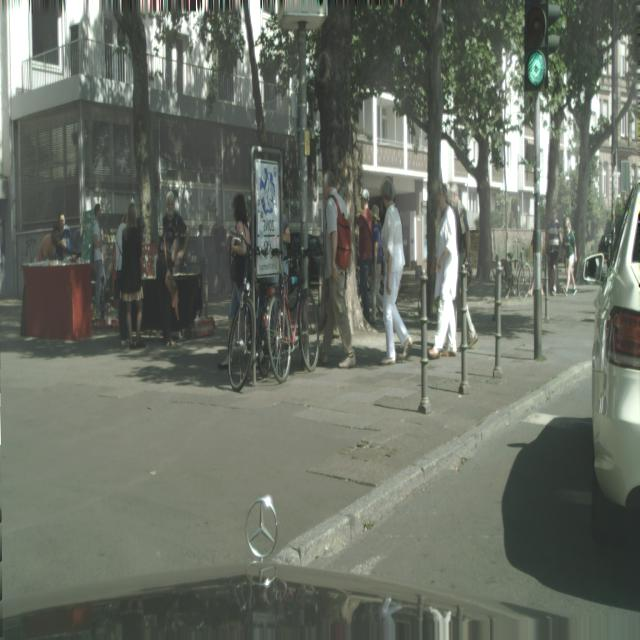car: (266, 246, 319, 383), (228, 257, 257, 392)
person: (319, 169, 357, 369), (379, 176, 413, 364), (428, 183, 460, 360), (449, 182, 479, 349), (226, 194, 252, 367), (162, 191, 190, 348), (117, 204, 145, 350), (356, 188, 374, 328), (92, 202, 105, 319), (211, 212, 228, 297), (546, 213, 562, 296), (36, 218, 63, 261), (563, 216, 577, 296)
truck: (588, 182, 640, 542)
